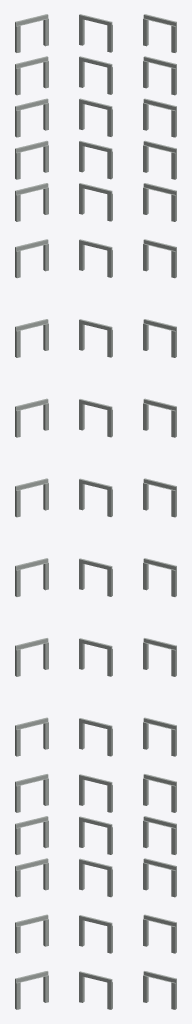
Rendered from AST-STF-G3-047.glb.
3 renders of one model, left to right at view 1: azimuth 30°, elevation 25°; view 2: azimuth 150°, elevation 25°; view 3: azimuth 330°, elevation 25°, orthographic.
Parts seen in each view (by area): view 1: door_receiver_staff_white_paint_D02, door_receiver_staff_white_paint_D03, door_receiver_staff_white_paint_D06, door_receiver_staff_white_paint_D16, door_receiver_staff_white_paint_D01, door_receiver_staff_white_paint_D04, door_receiver_staff_white_paint_D05, door_receiver_staff_white_paint_D07, door_receiver_staff_white_paint_D10, door_receiver_staff_white_paint_D15, door_receiver_staff_white_paint_D17, door_receiver_staff_white_paint_D08 (+5 smaller); view 2: door_receiver_staff_white_paint_D12, door_receiver_staff_white_paint_D01, door_receiver_staff_white_paint_D11, door_receiver_staff_white_paint_D16, door_receiver_staff_white_paint_D17, door_receiver_staff_white_paint_D07, door_receiver_staff_white_paint_D08, door_receiver_staff_white_paint_D09, door_receiver_staff_white_paint_D10, door_receiver_staff_white_paint_D02, door_receiver_staff_white_paint_D04, door_receiver_staff_white_paint_D05 (+5 smaller); view 3: door_receiver_staff_white_paint_D02, door_receiver_staff_white_paint_D03, door_receiver_staff_white_paint_D06, door_receiver_staff_white_paint_D16, door_receiver_staff_white_paint_D01, door_receiver_staff_white_paint_D04, door_receiver_staff_white_paint_D05, door_receiver_staff_white_paint_D07, door_receiver_staff_white_paint_D10, door_receiver_staff_white_paint_D15, door_receiver_staff_white_paint_D17, door_receiver_staff_white_paint_D08 (+5 smaller).
Part boxes in pixels (x1,y1,x2,y2): door_receiver_staff_white_paint_D02: (15,914,48,953); door_receiver_staff_white_paint_D03: (15,858,48,897); door_receiver_staff_white_paint_D06: (15,717,48,756); door_receiver_staff_white_paint_D16: (15,56,48,95); door_receiver_staff_white_paint_D01: (15,971,48,1009); door_receiver_staff_white_paint_D04: (15,816,48,854); door_receiver_staff_white_paint_D05: (15,774,48,812); door_receiver_staff_white_paint_D07: (15,638,48,676); door_receiver_staff_white_paint_D10: (15,398,48,437); door_receiver_staff_white_paint_D15: (15,98,48,137); door_receiver_staff_white_paint_D17: (15,14,48,52); door_receiver_staff_white_paint_D08: (15,558,48,596); door_receiver_staff_white_paint_D12: (79,239,112,277); door_receiver_staff_white_paint_D01: (79,971,112,1009); door_receiver_staff_white_paint_D11: (79,319,112,357); door_receiver_staff_white_paint_D16: (79,56,112,94); door_receiver_staff_white_paint_D17: (79,14,112,52); door_receiver_staff_white_paint_D07: (79,638,112,676); door_receiver_staff_white_paint_D08: (79,558,112,596); door_receiver_staff_white_paint_D09: (79,478,112,516); door_receiver_staff_white_paint_D10: (79,399,112,437); door_receiver_staff_white_paint_D02: (79,915,112,953); door_receiver_staff_white_paint_D04: (79,816,112,854); door_receiver_staff_white_paint_D05: (79,774,112,812); door_receiver_staff_white_paint_D02: (143,914,176,953); door_receiver_staff_white_paint_D03: (143,858,176,897); door_receiver_staff_white_paint_D06: (143,717,176,756); door_receiver_staff_white_paint_D16: (143,56,176,95); door_receiver_staff_white_paint_D01: (143,971,176,1009); door_receiver_staff_white_paint_D04: (143,816,176,854); door_receiver_staff_white_paint_D05: (143,774,176,812); door_receiver_staff_white_paint_D07: (143,638,176,676); door_receiver_staff_white_paint_D10: (143,398,176,437); door_receiver_staff_white_paint_D15: (143,98,176,137); door_receiver_staff_white_paint_D17: (143,14,176,52); door_receiver_staff_white_paint_D08: (143,558,176,596).
Bounding box in the file's own units: 3.6 × 105 × 0.36.
Materials: 1 (1 with a texture image).
